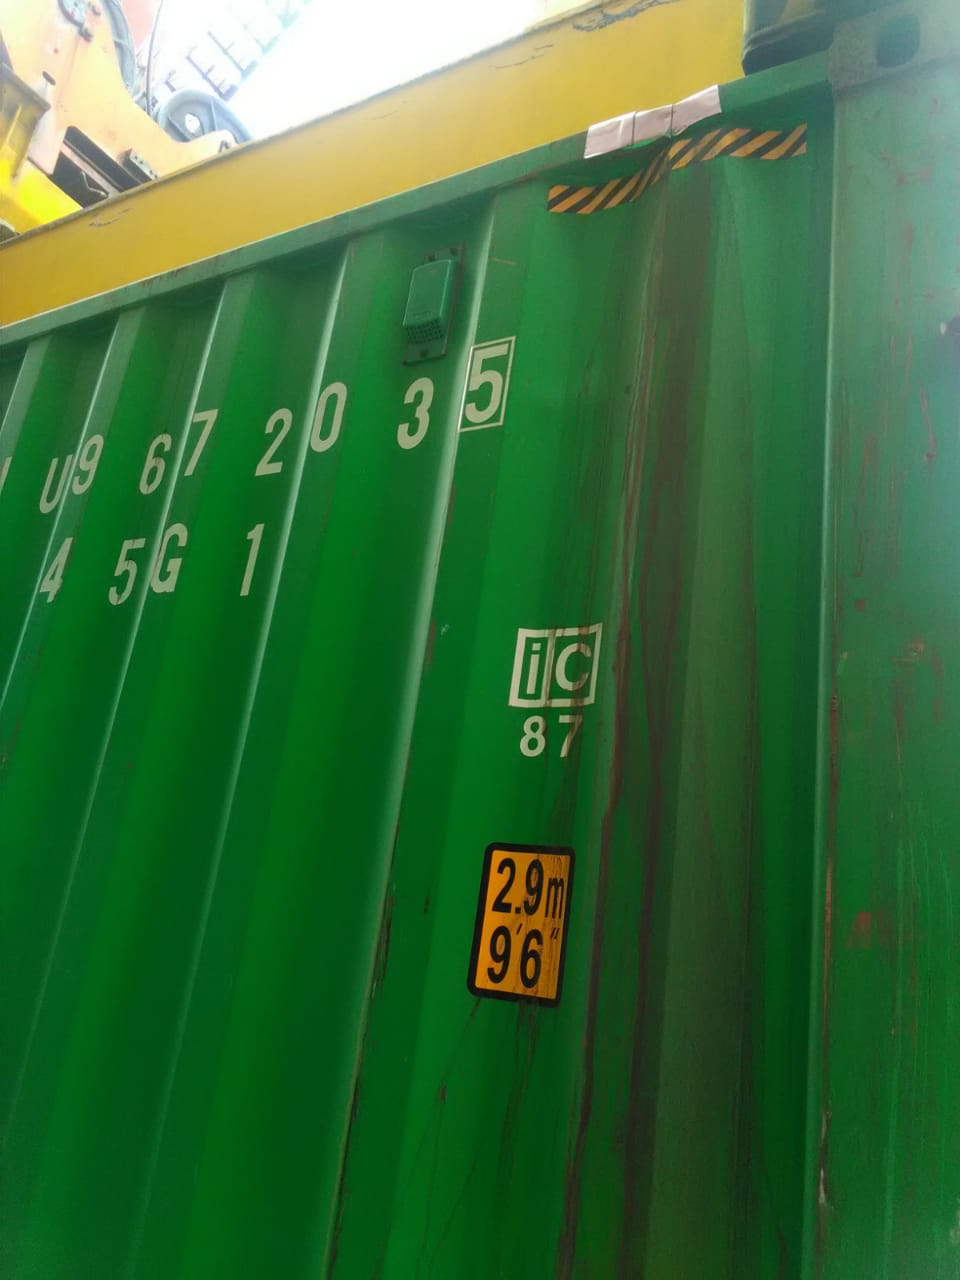bulged: (505, 171, 813, 888)
